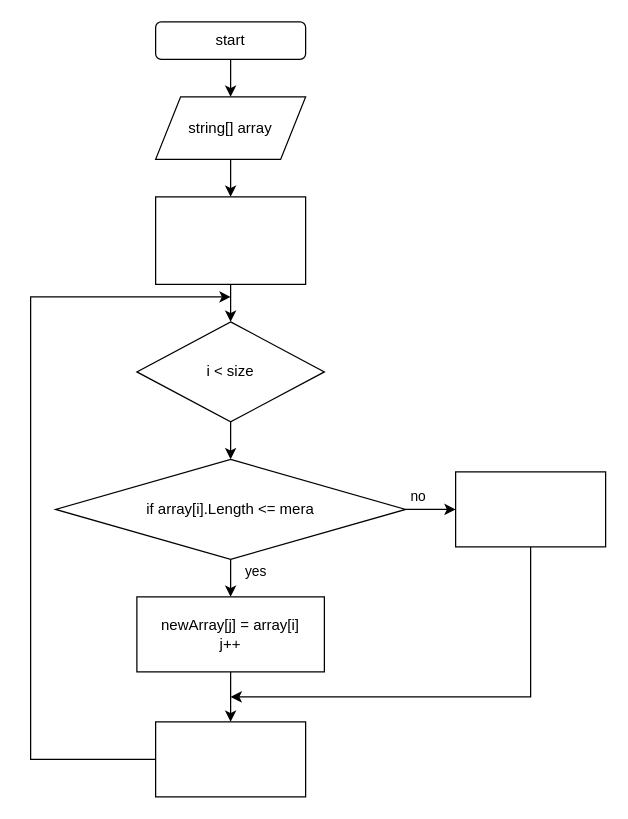
Some shapes in this 628 by 819 pixel diagram are drawn without their labels. The centre of each missing label's shape, as x and y in pixels:
i++: (230,759)
int mera = 3 i = 0, j = 0 size = array.Length string[]newArray: (230,240)
j--: (530,509)
